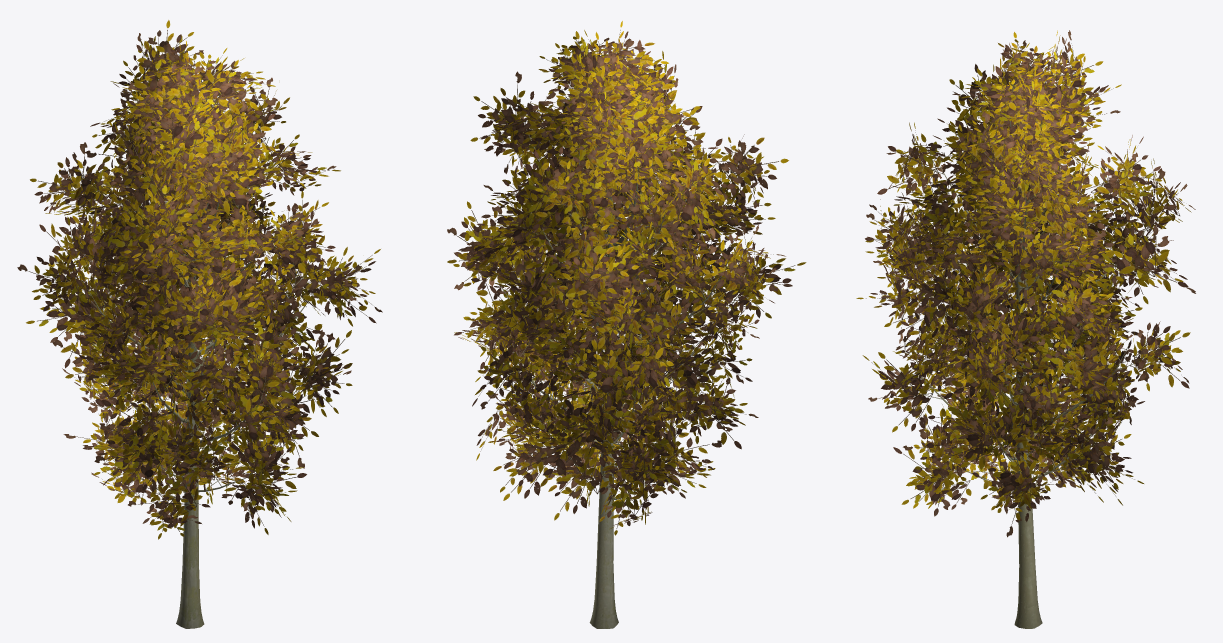
The model's file is tree_beechAutumn.glb.
3 renders of one model, left to right at view 1: azimuth 30°, elevation 25°; view 2: azimuth 150°, elevation 25°; view 3: azimuth 270°, elevation 25°, orthographic. The views are drawn at different scales.
Visible parts, largest first — view 1: plant; view 2: plant; view 3: plant.
Part boxes in pixels (x1=…): plant: x1=17, y1=20, x2=382, y2=628; plant: x1=447, y1=21, x2=806, y2=628; plant: x1=856, y1=30, x2=1195, y2=628.
Bounding box in the file's own units: 10.17 × 16.67 × 9.2.
2 materials, 2 textured.
